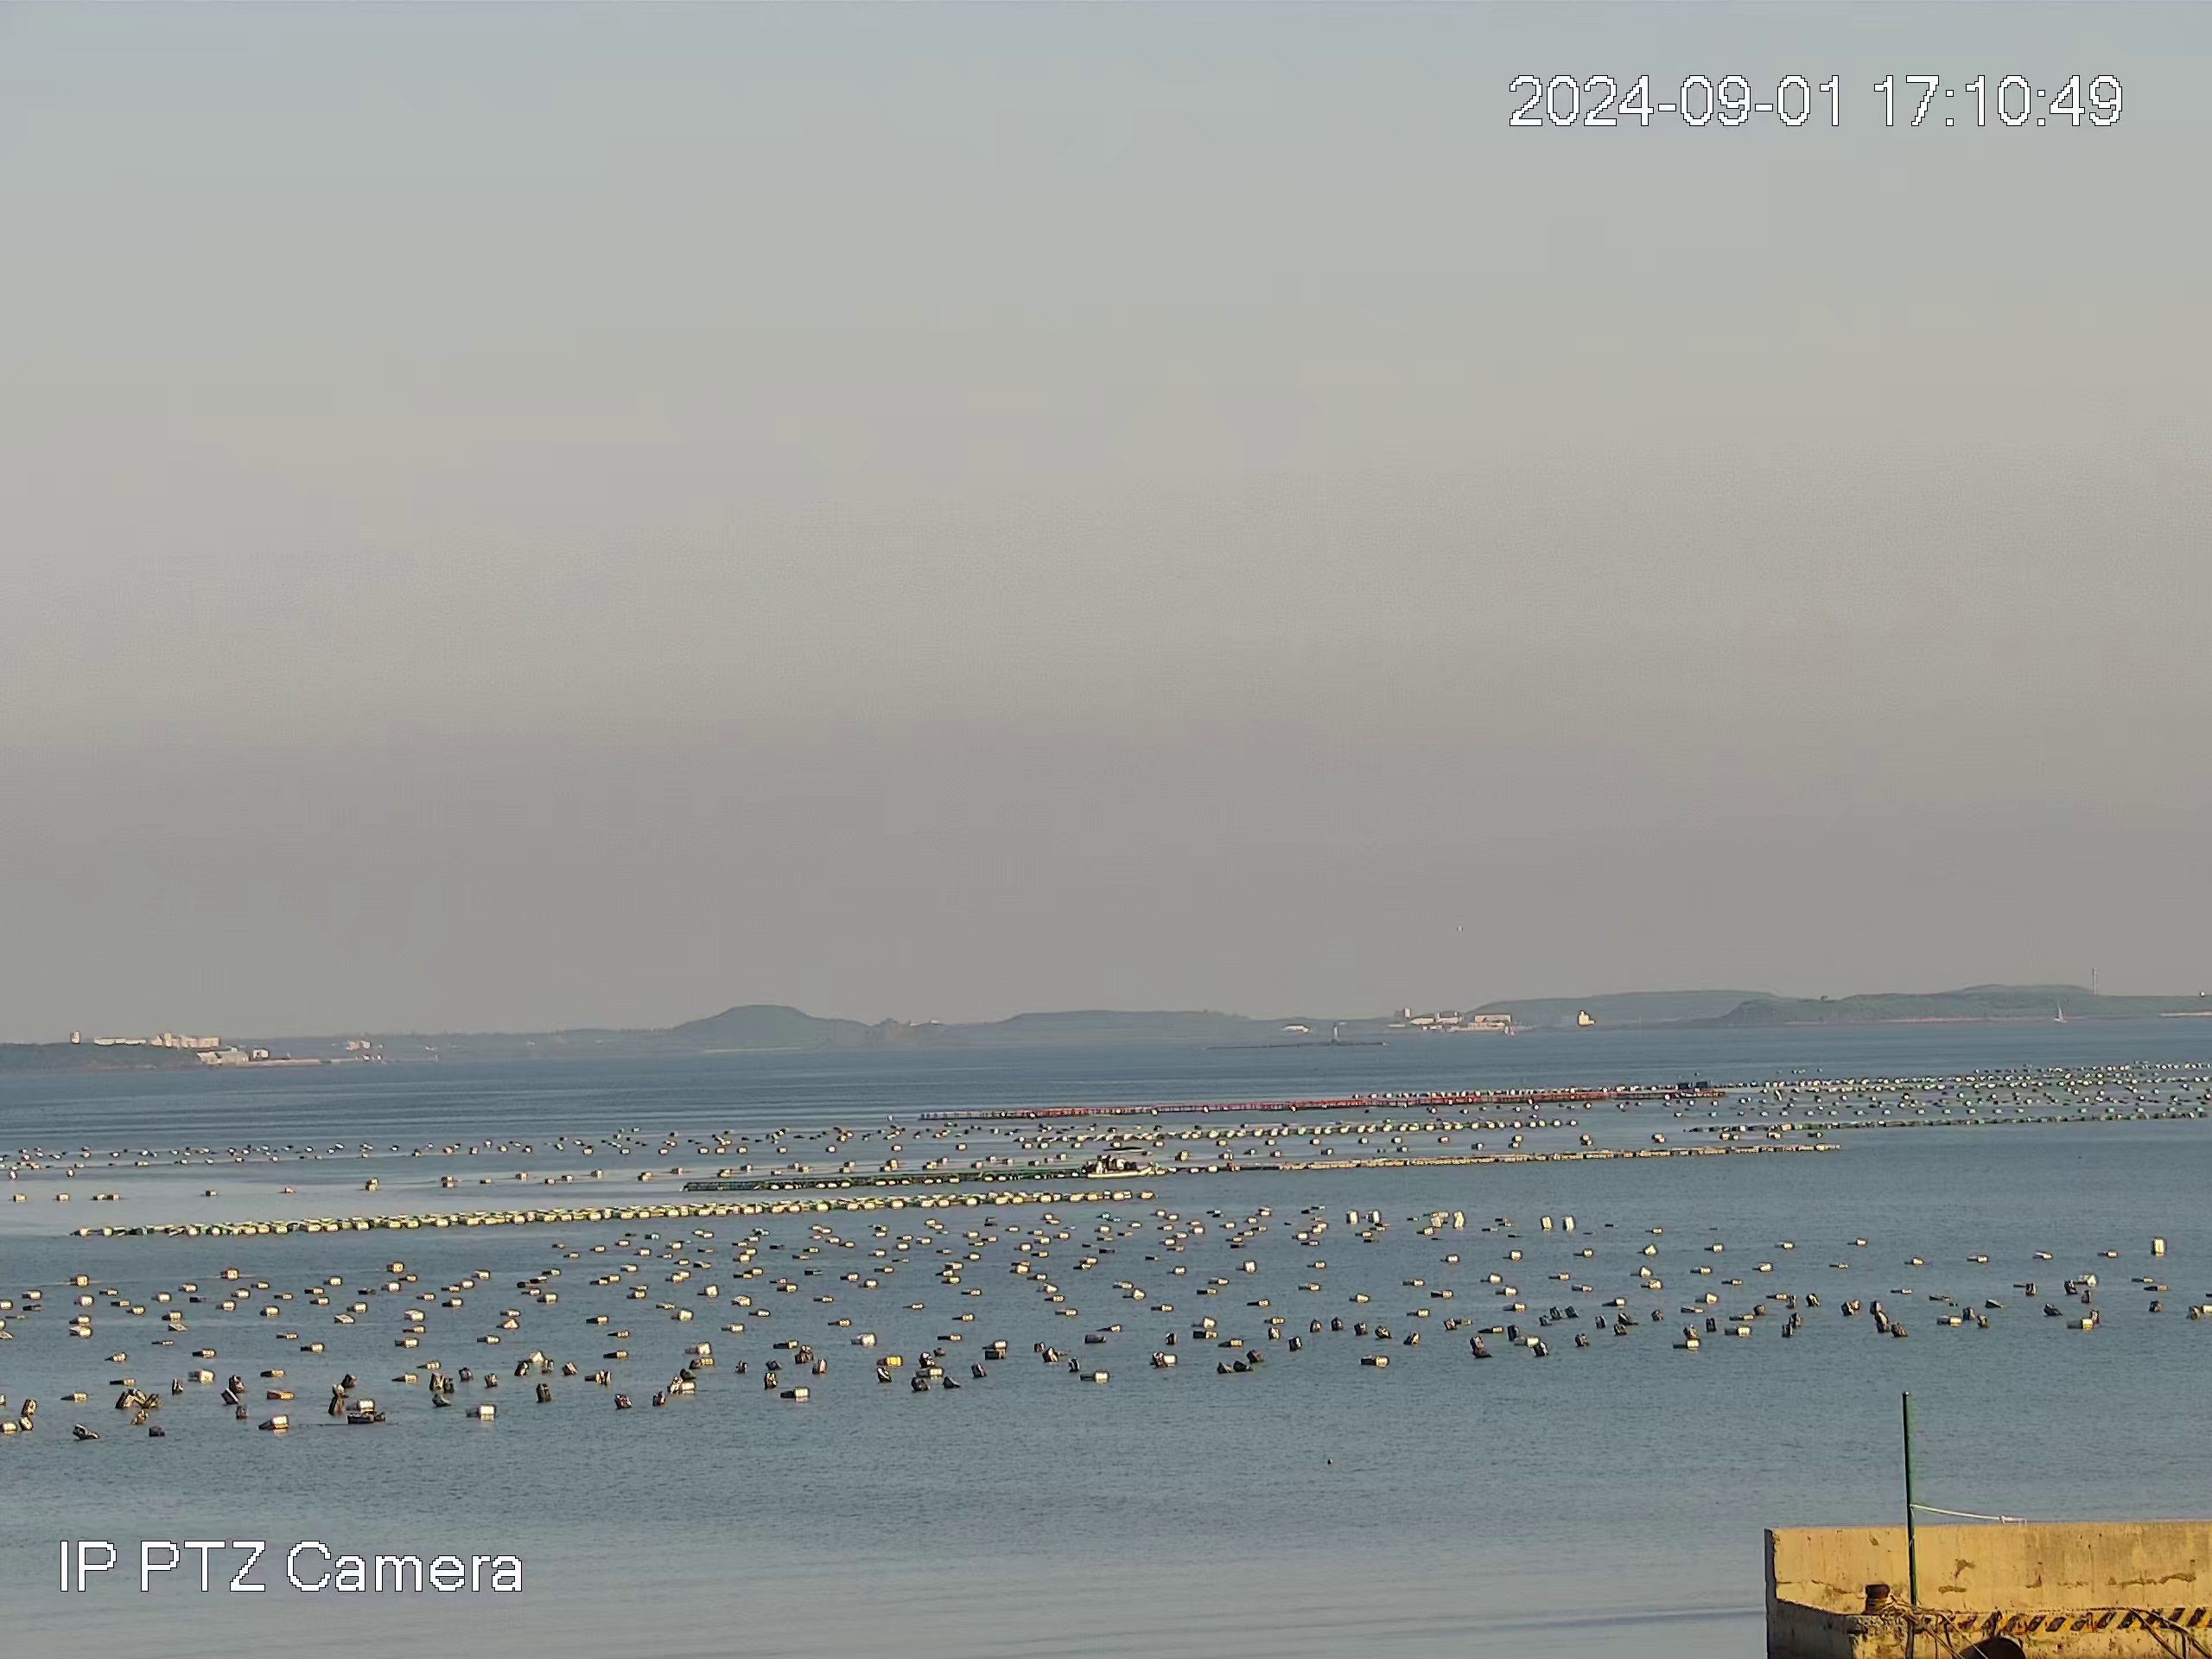boat: (1090, 1150, 1153, 1175)
